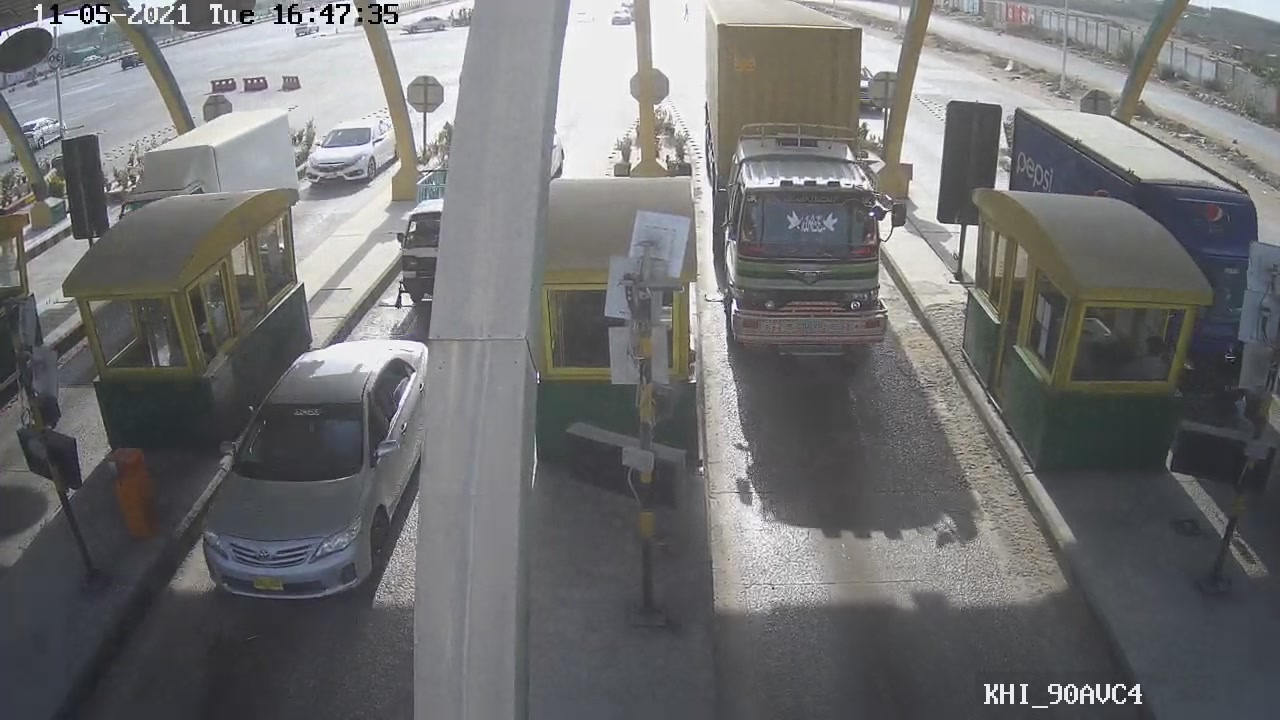F6: (686, 1, 913, 381)
